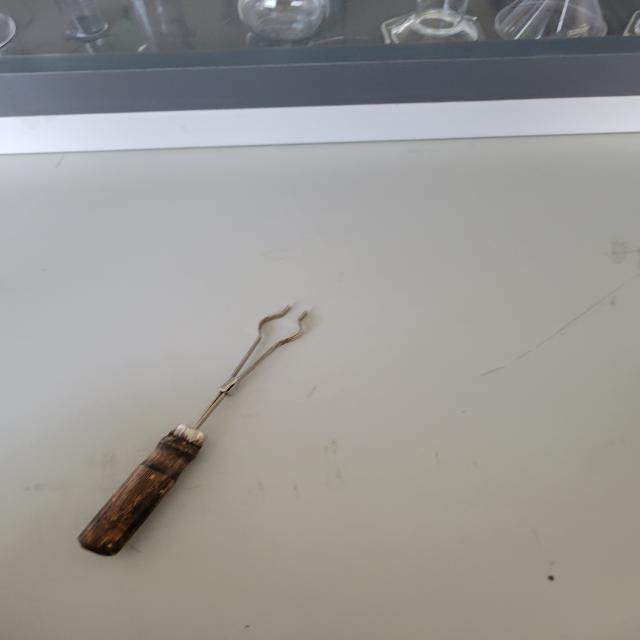TestTube_Holder: (45, 272, 350, 575)
